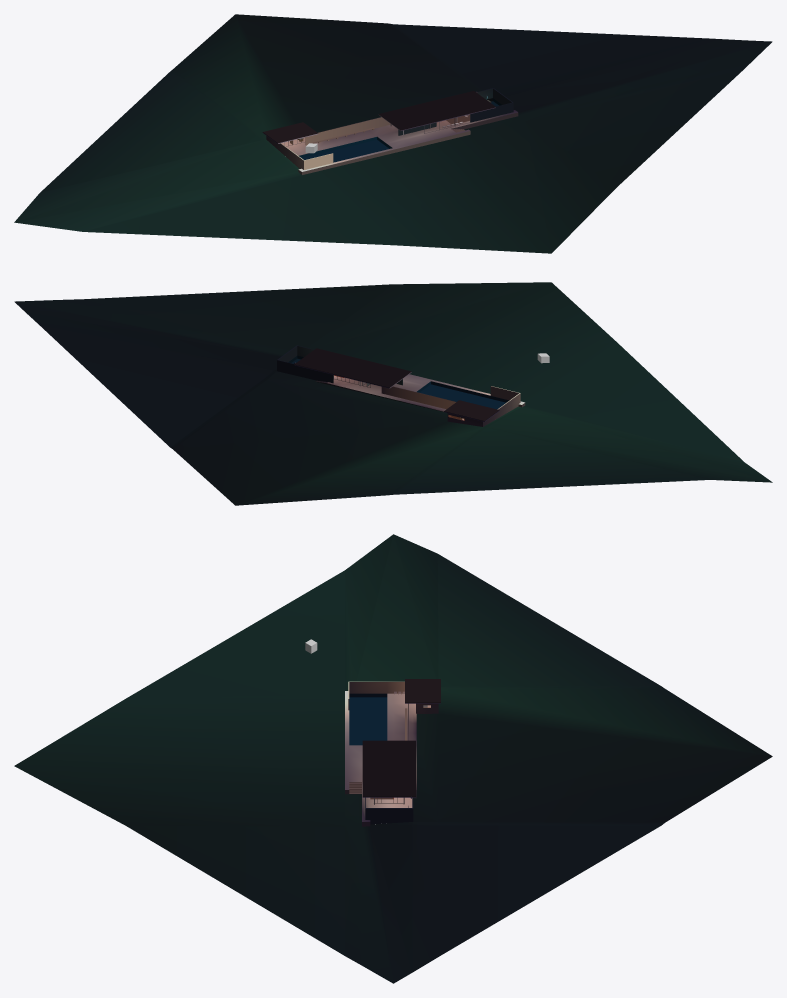
The model's file is hotel.obj.
3 views of the same model, one above another, from view 1: azimuth 30°, elevation 25°; view 2: azimuth 150°, elevation 25°; view 3: azimuth 270°, elevation 25° (orthographic). The views are drawn at different scales.
Size of the model in its own units: 49.9 by 2.9 by 36.
